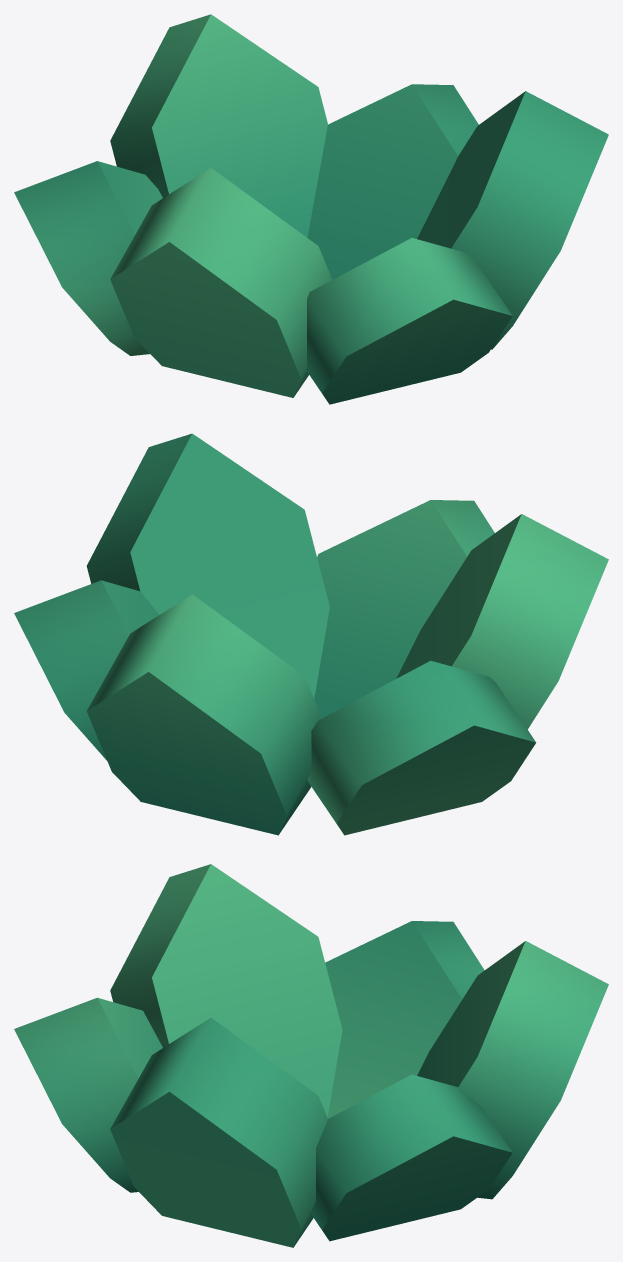
File: grass_plant.glb
3 renders of one model, top to bottom at view 1: azimuth 30°, elevation 25°; view 2: azimuth 150°, elevation 25°; view 3: azimuth 270°, elevation 25°, orthographic. The views are drawn at different scales.
Parts seen in each view (by area): view 1: grass-plant; view 2: grass-plant; view 3: grass-plant.
Part boxes in pixels (box(x1,y1,x2,y2)): grass-plant: box(14, 14, 608, 404); grass-plant: box(14, 433, 608, 835); grass-plant: box(14, 864, 608, 1247).
Bounding box in the file's own units: 1.11 × 0.5196 × 1.24.
Materials: 1 (1 with a texture image).
